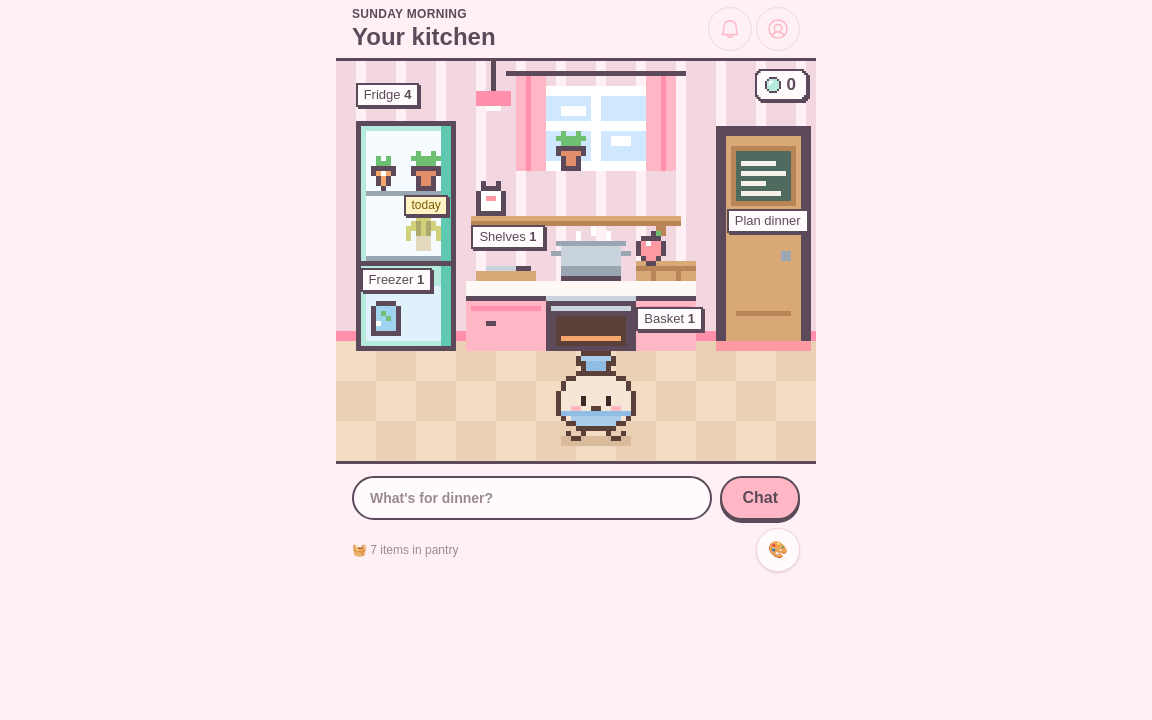
Test: bulk resolve › an expiring item can be used up straight from its row
Click the button with aria-label "Fridge, 4 items".
click(406, 174)  # box [356, 83, 456, 266]
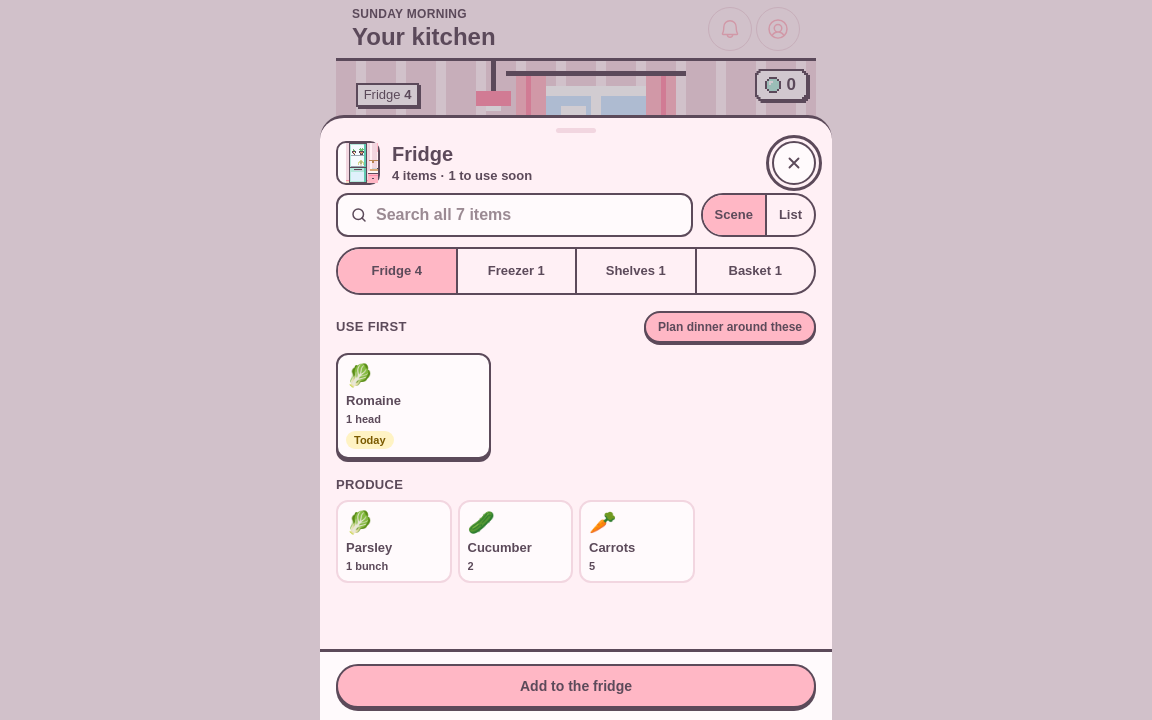
Click the button "List".
click(789, 215)  # box [765, 195, 814, 235]
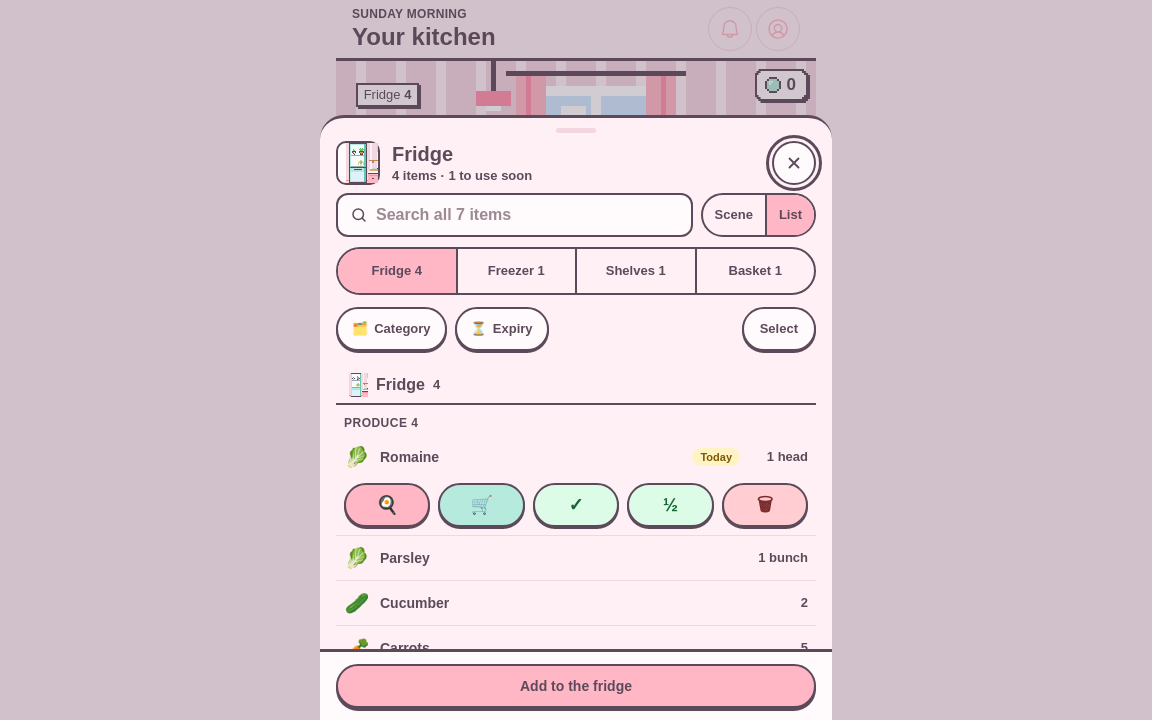
Click the button named "Mark romaine as used up".
click(576, 505)  # box [533, 483, 619, 527]
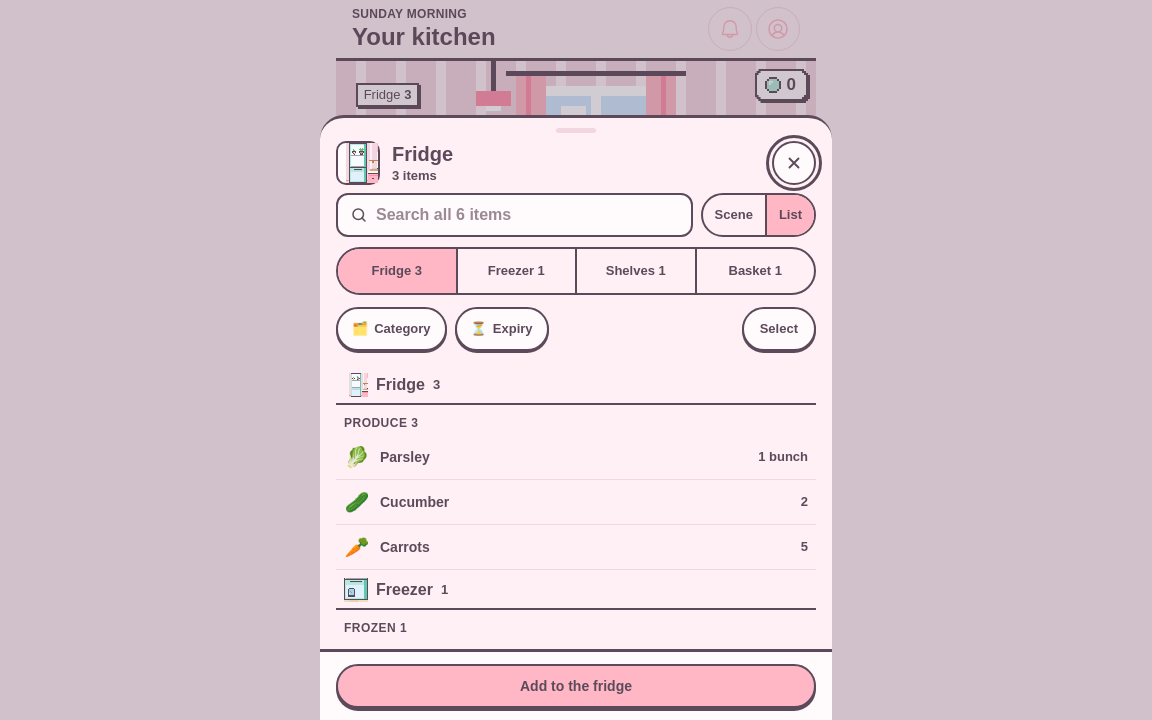
Now the button "Romaine" is gone
